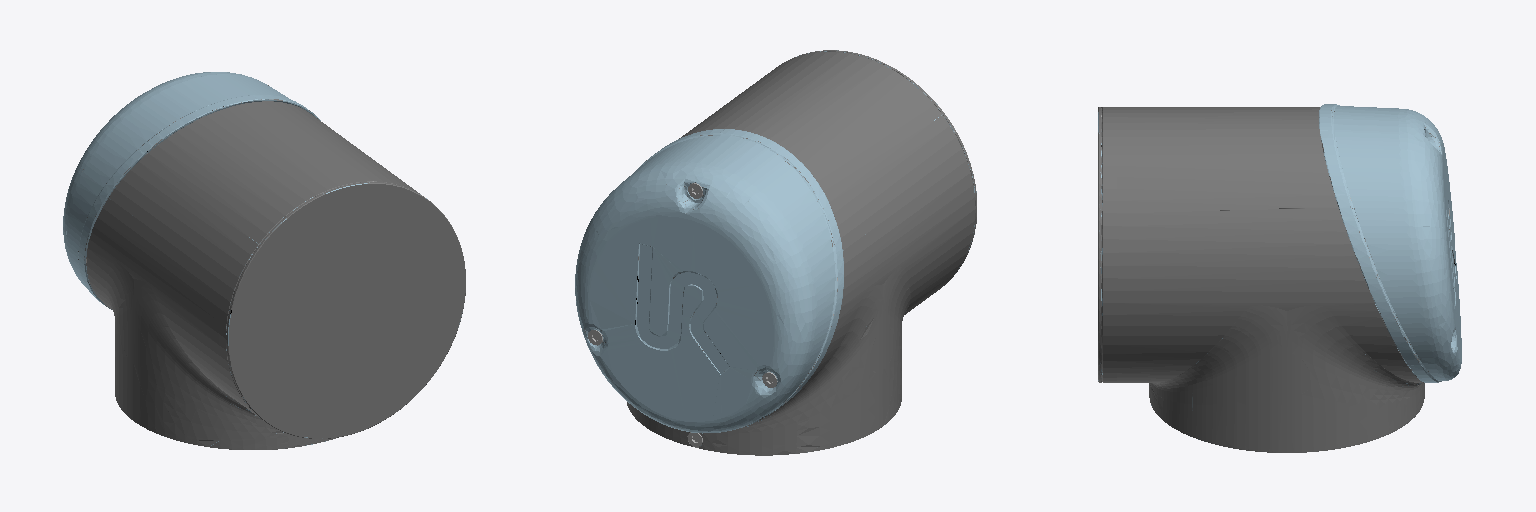
The picture shows the model from 3 angles: view 1: azimuth 30°, elevation 25°; view 2: azimuth 150°, elevation 25°; view 3: azimuth 270°, elevation 25°; orthographic projection.
Parts seen in each view (by area): view 1: wrist1; view 2: wrist1; view 3: wrist1.
Boxes of the visible parts, box(x1,y1,x2,y2) form: wrist1: box(63, 72, 465, 449); wrist1: box(575, 50, 976, 455); wrist1: box(1098, 104, 1461, 452).
Bounding box in the file's own units: 0.091 × 0.0999 × 0.1188.
1 materials, 1 textured.